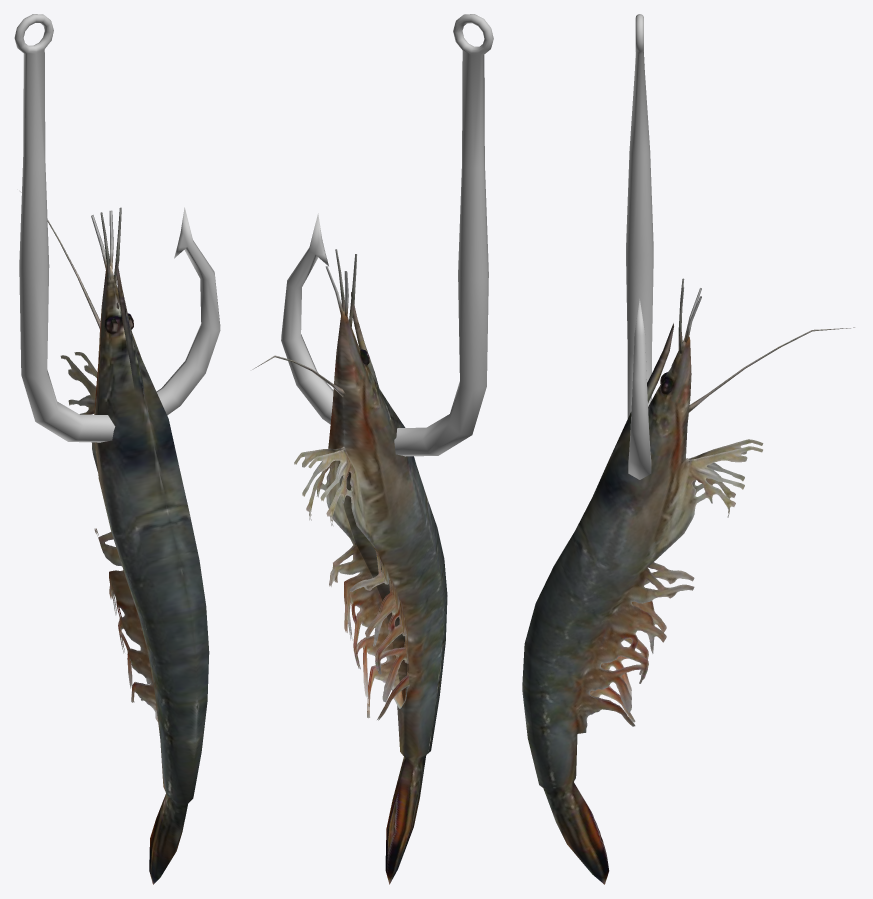
Rendered from Bait_Prawn.fbx.
3 views of the same model, side by side, from view 1: azimuth 30°, elevation 25°; view 2: azimuth 150°, elevation 25°; view 3: azimuth 270°, elevation 25° (orthographic). The views are drawn at different scales.
Visible parts, largest first — view 1: Bait_OrientalShrimp; view 2: Bait_OrientalShrimp; view 3: Bait_OrientalShrimp.
Part boxes in pixels (bbox=[...]): Bait_OrientalShrimp: bbox=[14, 14, 220, 884]; Bait_OrientalShrimp: bbox=[252, 14, 493, 884]; Bait_OrientalShrimp: bbox=[522, 14, 854, 884].
Bounding box in the file's own units: 0.2116 × 0.8679 × 0.3216.
